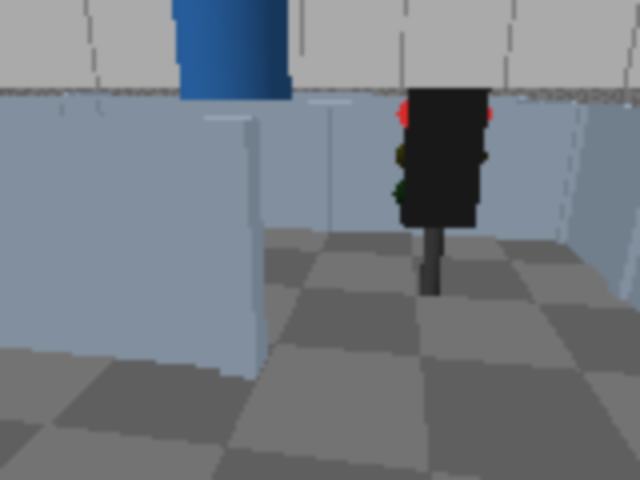traffic_light: (397, 75, 492, 309)
